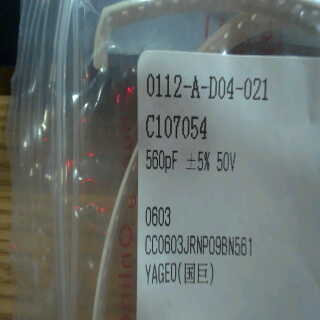560pF: (142, 147, 182, 169)
